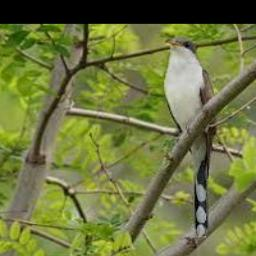Cuckoo: (163, 37, 215, 239)
